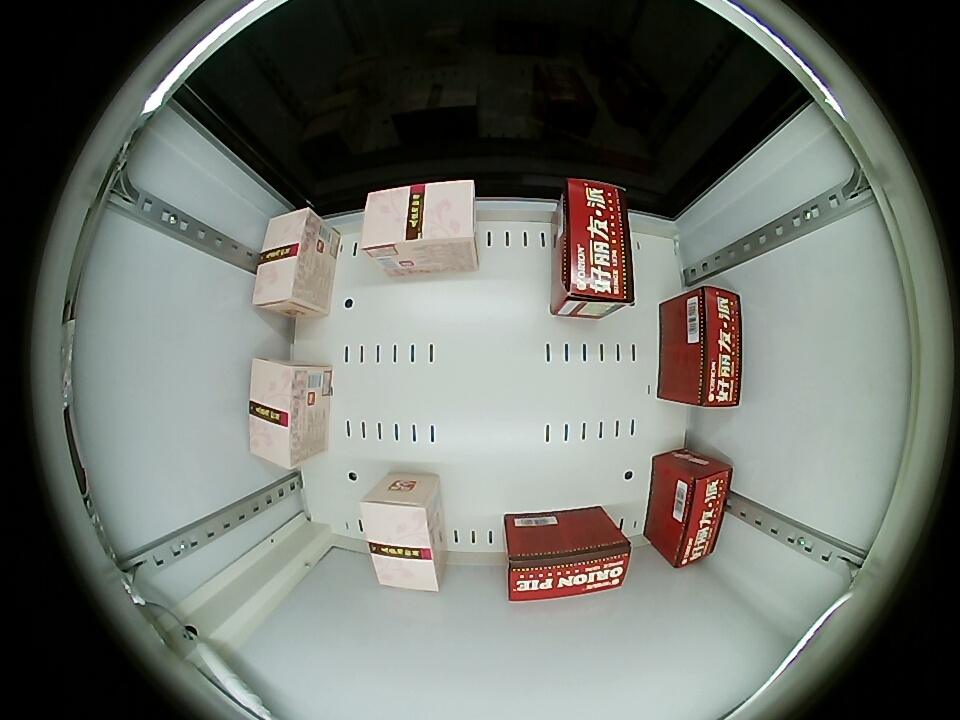haoliyou: (504, 511, 634, 603), (556, 179, 634, 315), (661, 286, 743, 407), (654, 454, 734, 568)
rousongbing: (360, 180, 476, 273), (359, 482, 443, 593), (248, 358, 326, 469), (252, 207, 324, 314)
